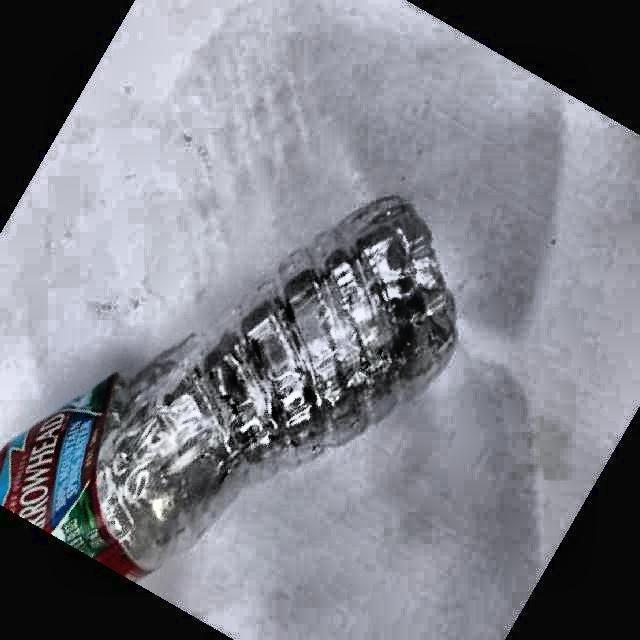plastic: (0, 198, 455, 578)
